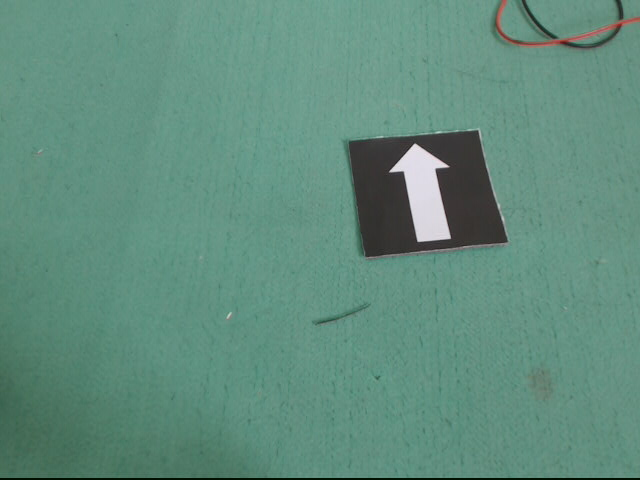straight: (345, 128, 506, 261)
